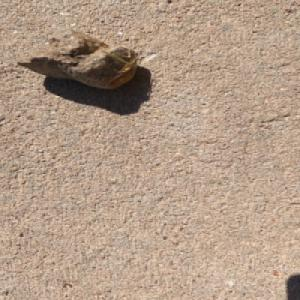Rock: (13, 27, 140, 90)
